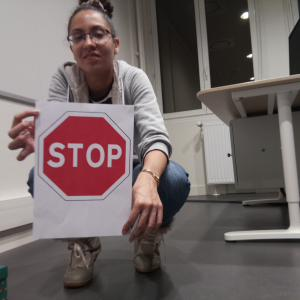stop: (39, 111, 130, 200)
